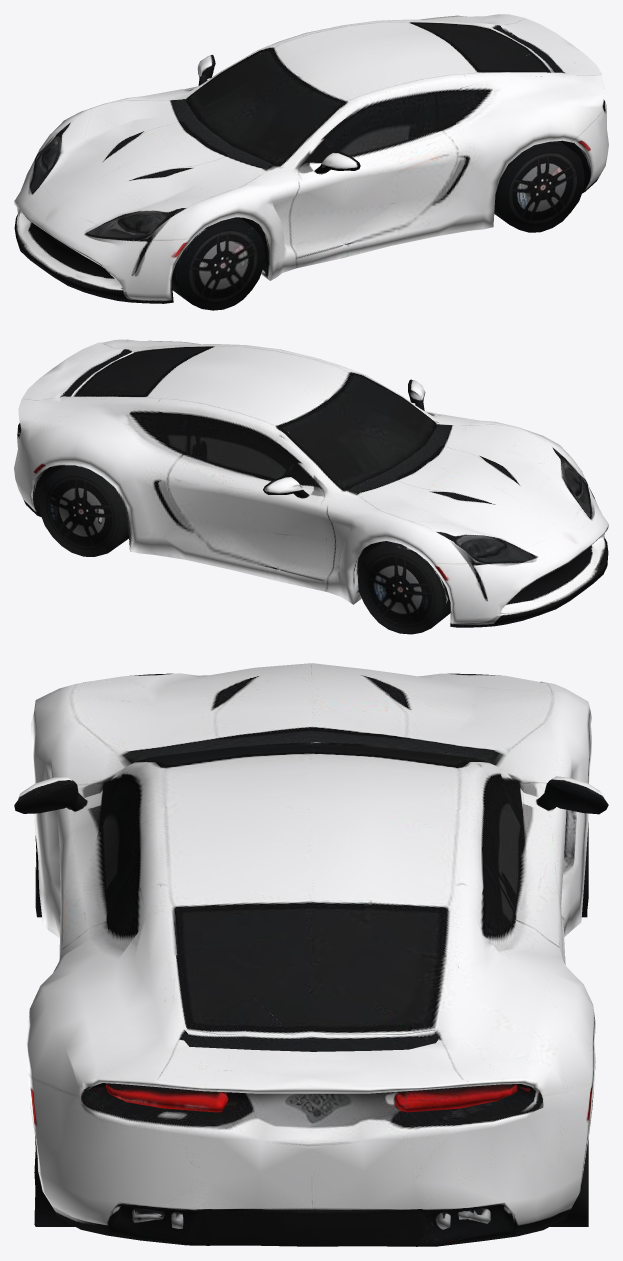
File: car_sports.glb
3 renders of one model, top to bottom at view 1: azimuth 30°, elevation 25°; view 2: azimuth 150°, elevation 25°; view 3: azimuth 270°, elevation 25°, orthographic. The views are drawn at different scales.
Size of the model in its own units: 1 by 0.2803 by 0.4873.
1 material, 1 textured.
